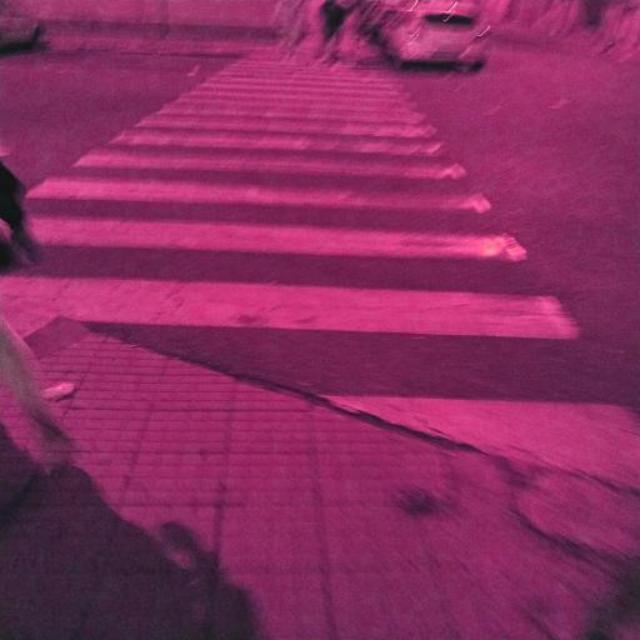sidewalk: (0, 42, 640, 517)
